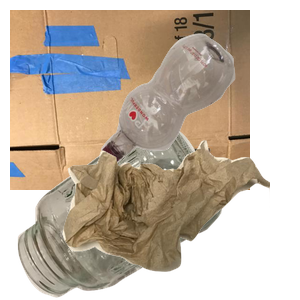cardboard: (10, 10, 250, 190)
glass: (15, 126, 229, 300)
plastic: (99, 31, 300, 189)
trash: (60, 138, 300, 300)
